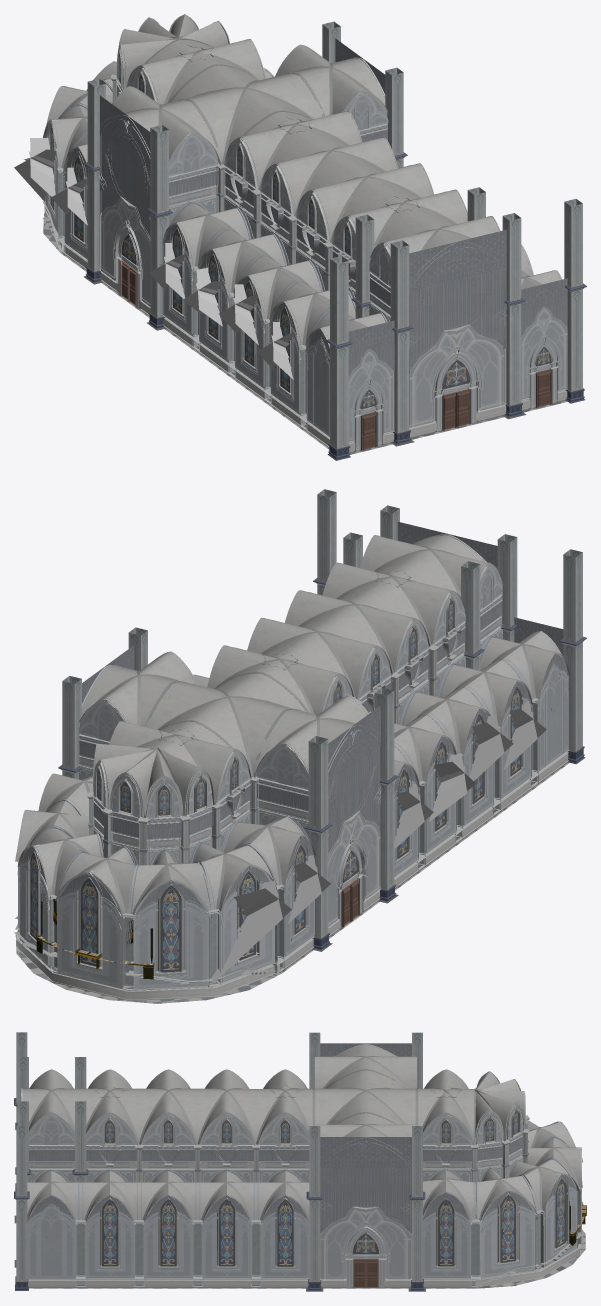
The model's file is IndoorScene_Md_Church.fbx.
3 renders of one model, top to bottom at view 1: azimuth 30°, elevation 25°; view 2: azimuth 150°, elevation 25°; view 3: azimuth 270°, elevation 25°, orthographic. The views are drawn at different scales.
Visible parts, largest first — view 1: Indoor_MdBuild_Church01, Indoor_Mdprops_Church_Squate01_Vo (×10), Indoor_MdBuild_Church01_Wall, xform02 (×3), Indoor_MdBuild_Church01_Ground, xform01; view 2: Indoor_MdBuild_Church01, Indoor_Mdprops_Church_Squate01_Vo (×8), Indoor_MdBuild_Church01_Wall, xform01 (×6), Indoor_MdBuild_Church01_Ground, Indoor_MdProps_Church_Organ01_Vo, xform02, Indoor_MdBuild_Church01_Stairs; view 3: Indoor_MdBuild_Church01, Indoor_MdBuild_Church01_Wall, Indoor_Mdprops_Church_Squate01_Vo (×10), Indoor_MdBuild_Church01_Ground.
Boxes of the visible parts, <box> form: Indoor_MdBuild_Church01: <box>43,14,567,452</box>; Indoor_Mdprops_Church_Squate01_Vo (×10): <box>83,21,586,460</box>; Indoor_MdBuild_Church01_Wall: <box>45,35,567,441</box>; xform02 (×3): <box>24,137,258,344</box>; Indoor_MdBuild_Church01_Ground: <box>43,45,567,454</box>; xform01: <box>14,149,56,201</box>; Indoor_MdBuild_Church01: <box>15,521,570,1000</box>; Indoor_Mdprops_Church_Squate01_Vo (×8): <box>58,489,586,950</box>; Indoor_MdBuild_Church01_Wall: <box>17,534,569,989</box>; xform01 (×6): <box>209,701,538,984</box>; Indoor_MdBuild_Church01_Ground: <box>15,569,569,1003</box>; Indoor_MdProps_Church_Organ01_Vo: <box>35,893,154,979</box>; xform02: <box>234,888,291,932</box>; Indoor_MdBuild_Church01_Stairs: <box>14,916,281,984</box>; Indoor_MdBuild_Church01: <box>22,1043,582,1287</box>; Indoor_MdBuild_Church01_Wall: <box>21,1044,581,1279</box>; Indoor_Mdprops_Church_Squate01_Vo (×10): <box>14,1032,425,1290</box>; Indoor_MdBuild_Church01_Ground: <box>14,1084,585,1291</box>.
Size of what is drawn, in the model's own units: 34.92 by 25.93 by 78.37.
Materials: 28 (23 with a texture image).
